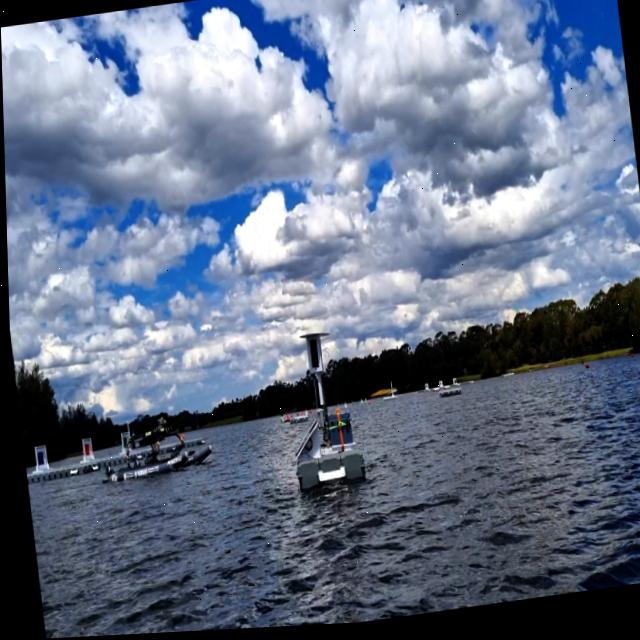led: (305, 339, 317, 373)
